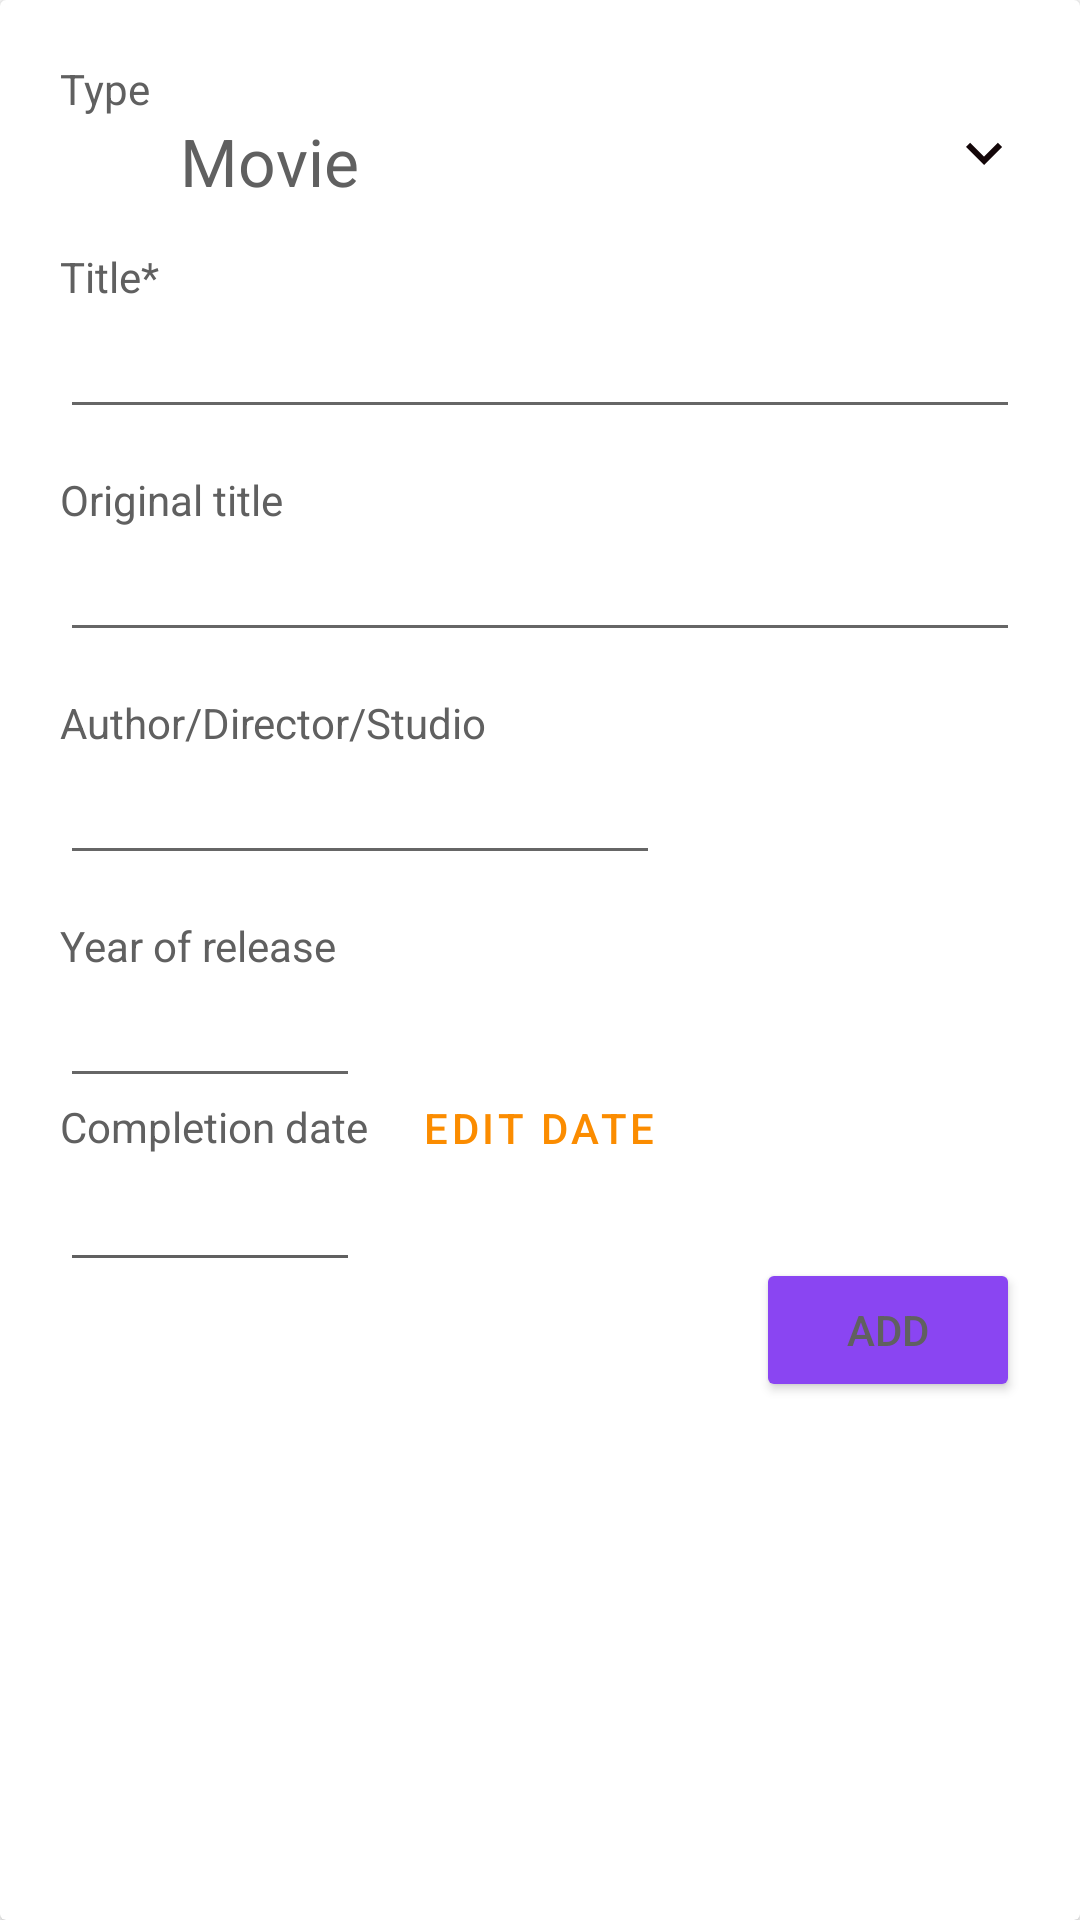

Named icons in this screenshot (1080px×1920px) and their centers, point (x, y):
arrow: point (984, 154)
